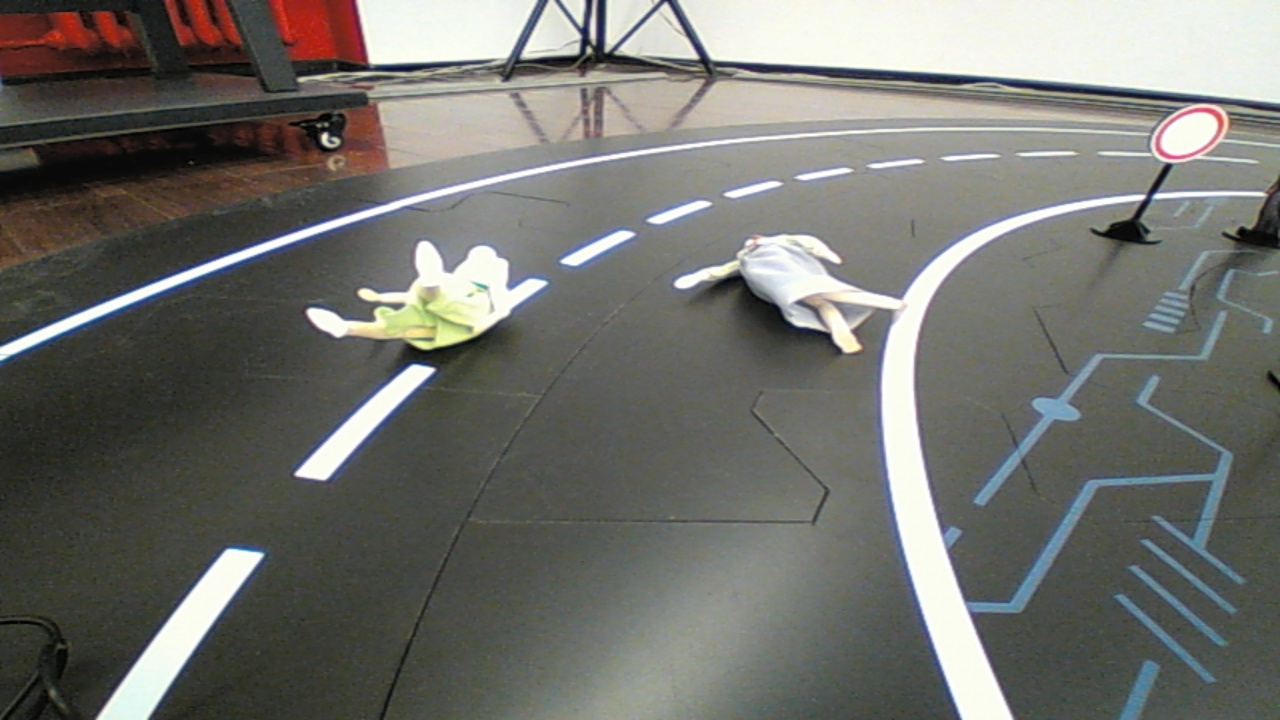Road works: (668, 224, 927, 365), (302, 238, 545, 353)
